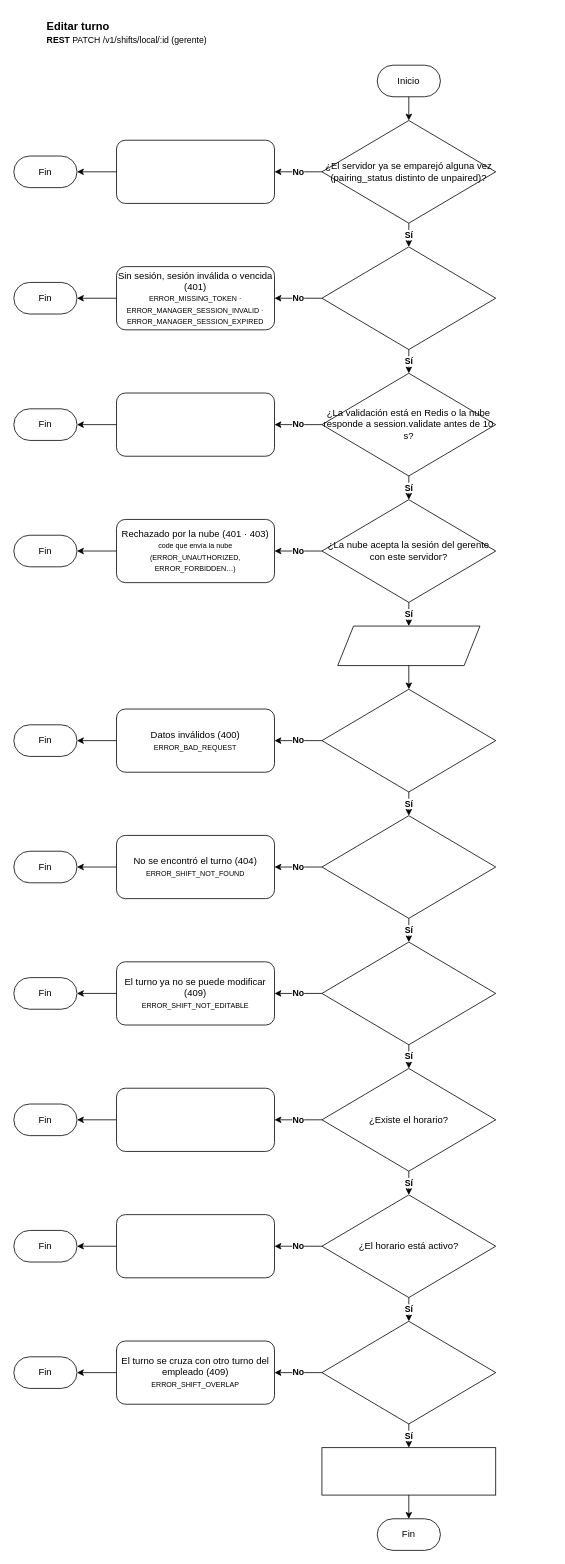
Some shapes in this 565 by 1564 pixel diagram are drawn without their labels. Here are the shapes that lost their labels. From the top down, the centre of each, then its label:
At point (195, 171): "Servidor sin emparejar (409) ERROR_SERVER_NOT_PAIRED".
At point (408, 298): "¿Trae una sesión de gerente válida (Bearer mss_..., sin 30 min de inactividad)?".
At point (195, 424): "La nube no responde (503) ERROR_CLOUD_UNAVAILABLE · ERROR_SERVER_UNLINKED".
At point (408, 645): "Recibir datos".
At point (408, 740): "¿Los datos son válidos?".
At point (408, 866): "¿Existe el turno?".
At point (408, 993): "¿El turno sigue programado (editable)?".
At point (195, 1119): "No se encontró el horario (404) ERROR_WORK_SCHEDULE_NOT_FOUND".
At point (195, 1246): "El horario está desactivado (409) ERROR_SHIFT_WORK_SCHEDULE_INACTIVE".
At point (408, 1372): "¿El turno no se cruza con otro del empleado?".
At point (408, 1471): "Responder 200 con el mensaje SHIFT_UPDATED".
